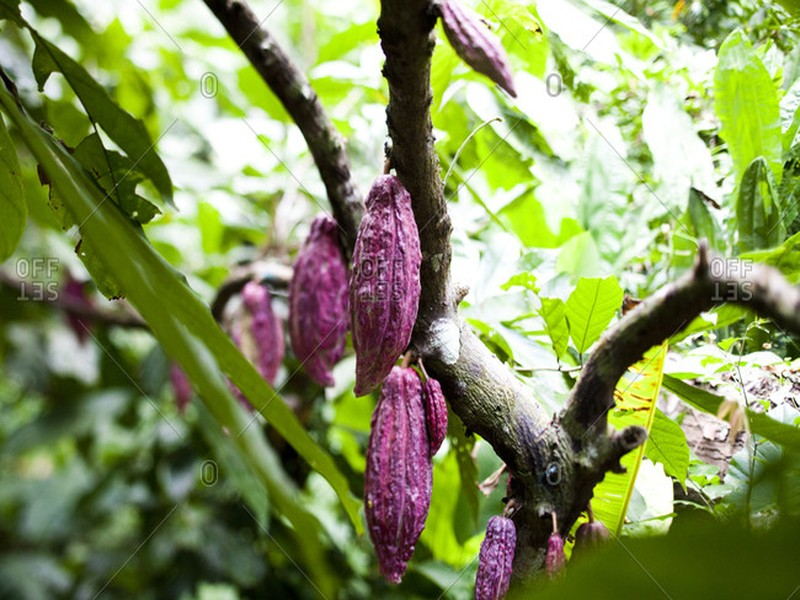Cacaopod: (351, 178, 416, 398)
